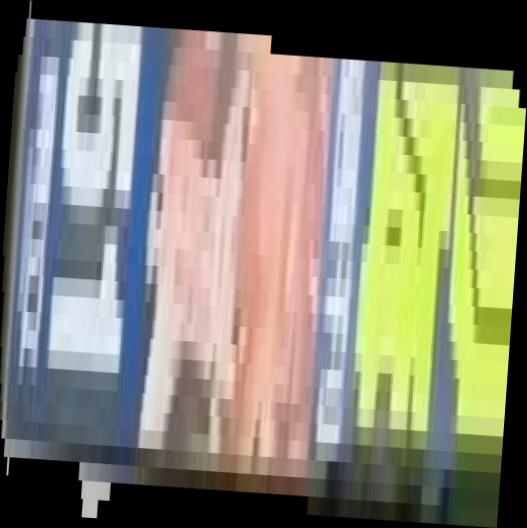flat: (1, 1, 527, 528)
